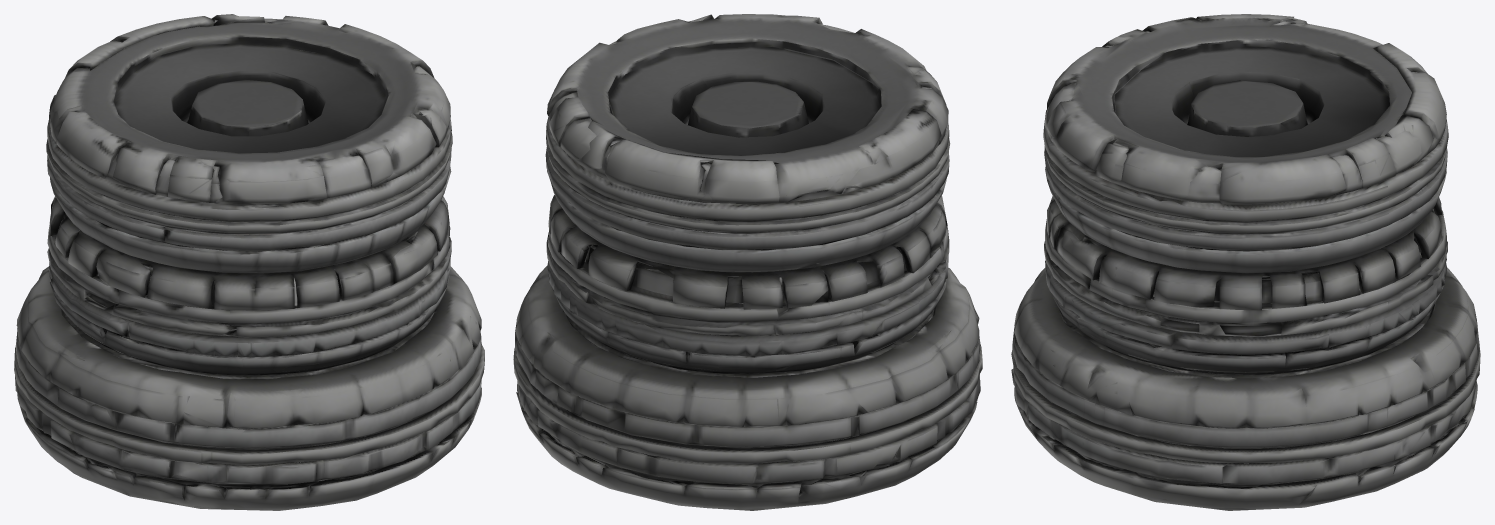
The model's file is tires.glb.
3 renders of one model, left to right at view 1: azimuth 30°, elevation 25°; view 2: azimuth 150°, elevation 25°; view 3: azimuth 270°, elevation 25°, orthographic.
Bounding box in the file's own units: 2 × 1.57 × 2.
1 material, 1 textured.
